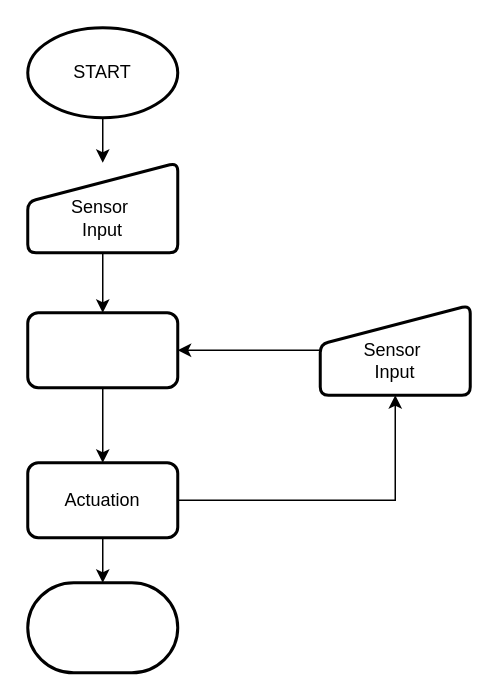
The diagram is 497 pixels wide and 699 high, and some of its shapes have lost their labels. The centre of each missing label's shape, as x and y in pixels:
"END" goes at (102,627).
"PID Controller" goes at (102,349).
